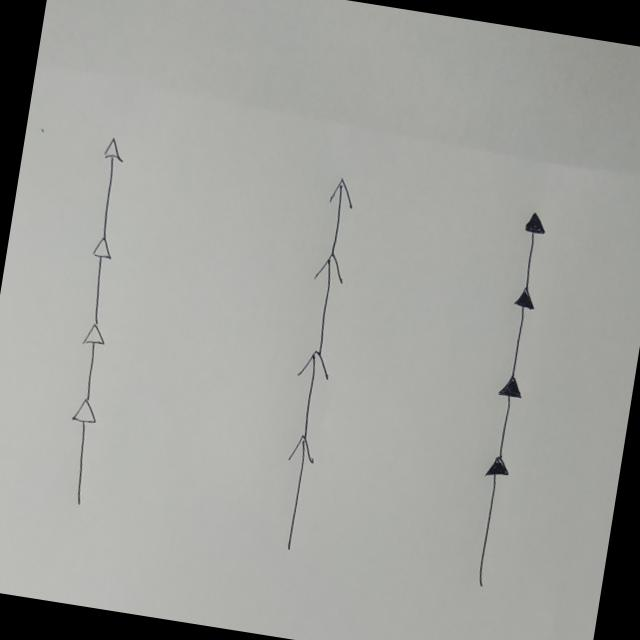arrow_line_up: (465, 454, 512, 589), (268, 432, 320, 554), (55, 396, 101, 512), (299, 252, 349, 357), (86, 132, 132, 240), (284, 348, 336, 442), (316, 175, 361, 256), (78, 238, 118, 328), (501, 288, 540, 380), (486, 376, 526, 461), (512, 211, 550, 289), (73, 323, 109, 402)
